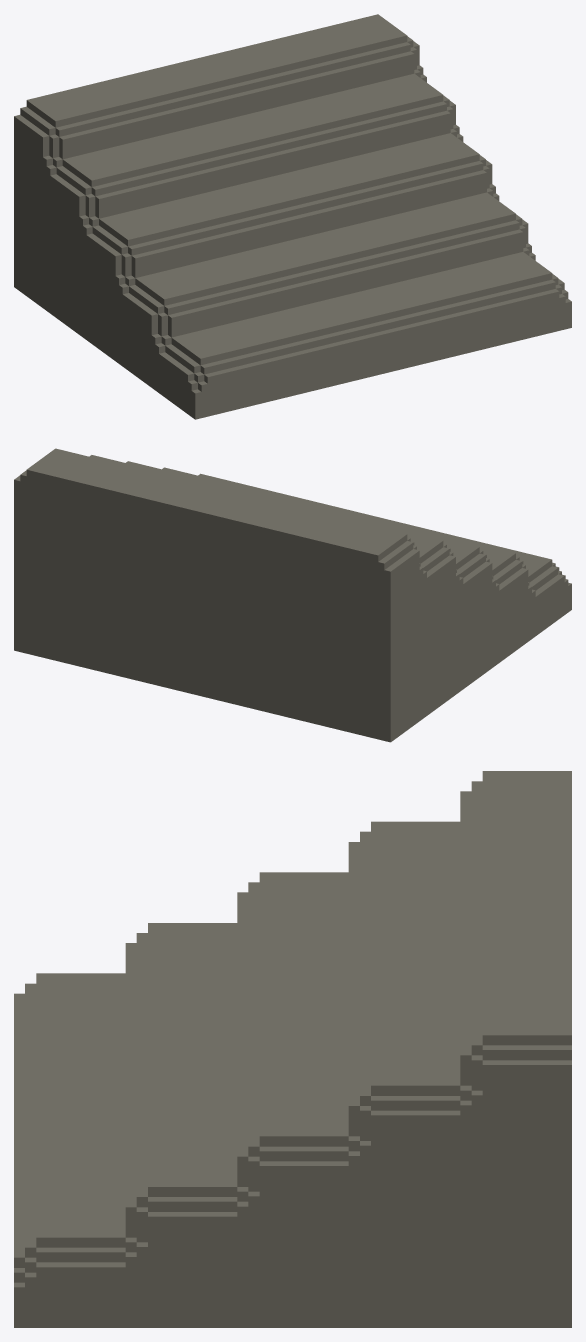
Rendered from Korean_item_08.FBX.
The picture shows the model from 3 angles, top to bottom: view 1: azimuth 30°, elevation 25°; view 2: azimuth 150°, elevation 25°; view 3: azimuth 270°, elevation 25°; orthographic projection. The views are drawn at different scales.
Parts seen in each view (by area): view 1: Voxel_Korean_traditional village-4; view 2: Voxel_Korean_traditional village-4; view 3: Voxel_Korean_traditional village-4.
Boxes of the visible parts, x1,y1,x2,y2 form: Voxel_Korean_traditional village-4: [14, 14, 571, 419]; Voxel_Korean_traditional village-4: [14, 448, 571, 742]; Voxel_Korean_traditional village-4: [14, 771, 571, 1327].
Size of the model in its own units: 59.99 by 27.99 by 49.99.
Materials: 1 (1 with a texture image).
